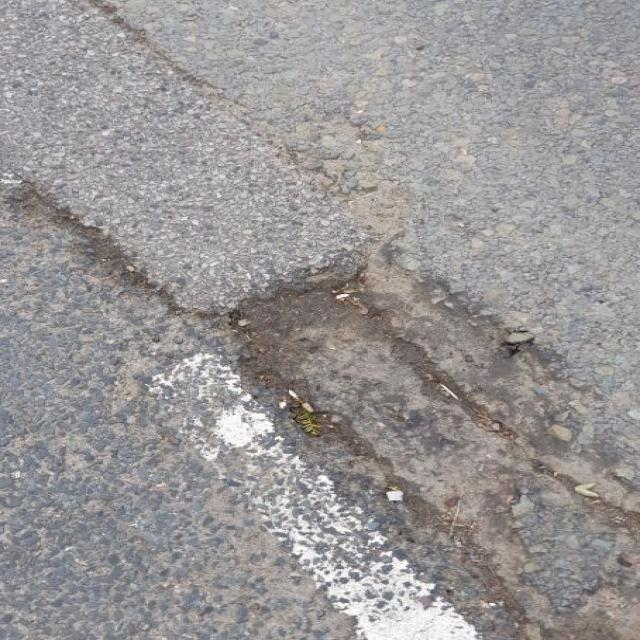Pothole: (130, 230, 617, 541)
